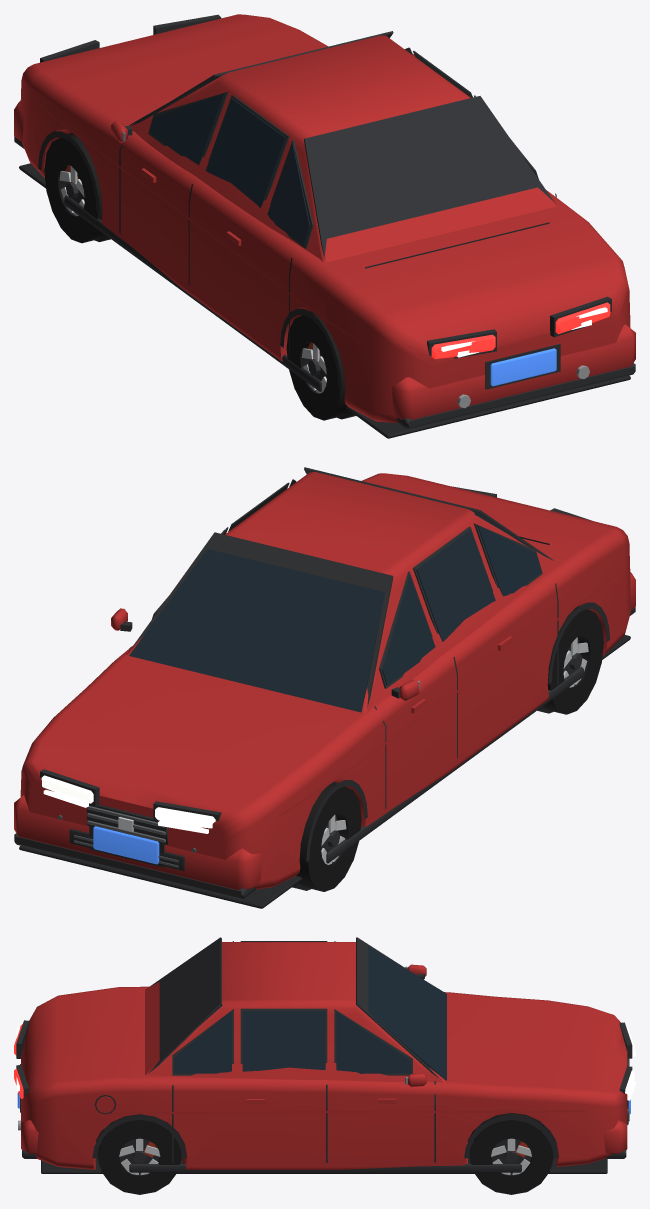
Rendered from car_sedan_standard_red.glb.
3 views of the same model, one above another, from view 1: azimuth 30°, elevation 25°; view 2: azimuth 150°, elevation 25°; view 3: azimuth 270°, elevation 25° (orthographic). The views are drawn at different scales.
Parts seen in each view (by area): view 1: Body, Trim, Glass, Wheel_FL, Wheel_RL, Lights, Plate_R; view 2: Body, Glass, Trim, Wheel_FL, Wheel_RL, Lights, Plate_F; view 3: Body, Glass, Trim, Wheel_FR, Wheel_RR, Lights.
Part boxes in pixels (x1,y1,x2,y2): Body: [14, 14, 635, 423]; Trim: [14, 14, 635, 438]; Glass: [122, 34, 514, 245]; Wheel_FL: [44, 134, 105, 243]; Wheel_RL: [286, 312, 349, 420]; Lights: [431, 302, 610, 359]; Plate_R: [490, 348, 556, 386]; Body: [14, 472, 635, 889]; Glass: [124, 472, 541, 712]; Trim: [14, 467, 635, 908]; Wheel_FL: [296, 783, 361, 891]; Wheel_RL: [542, 606, 603, 714]; Lights: [41, 775, 215, 833]; Plate_F: [93, 826, 159, 864]; Body: [21, 942, 627, 1169]; Glass: [174, 946, 446, 1084]; Trim: [16, 937, 632, 1173]; Wheel_FR: [470, 1113, 552, 1194]; Wheel_RR: [98, 1114, 181, 1194]; Lights: [14, 1024, 635, 1100].
Bounding box in the file's own units: 2.03 × 1.49 × 4.72.
